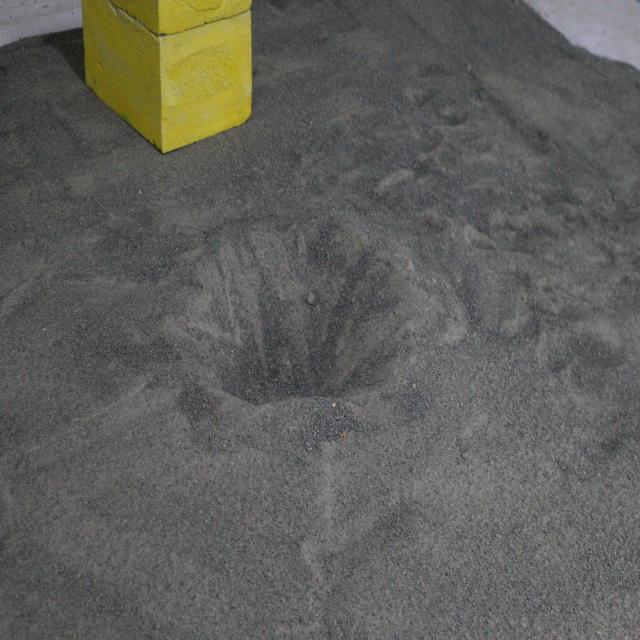crater: (174, 203, 430, 448)
